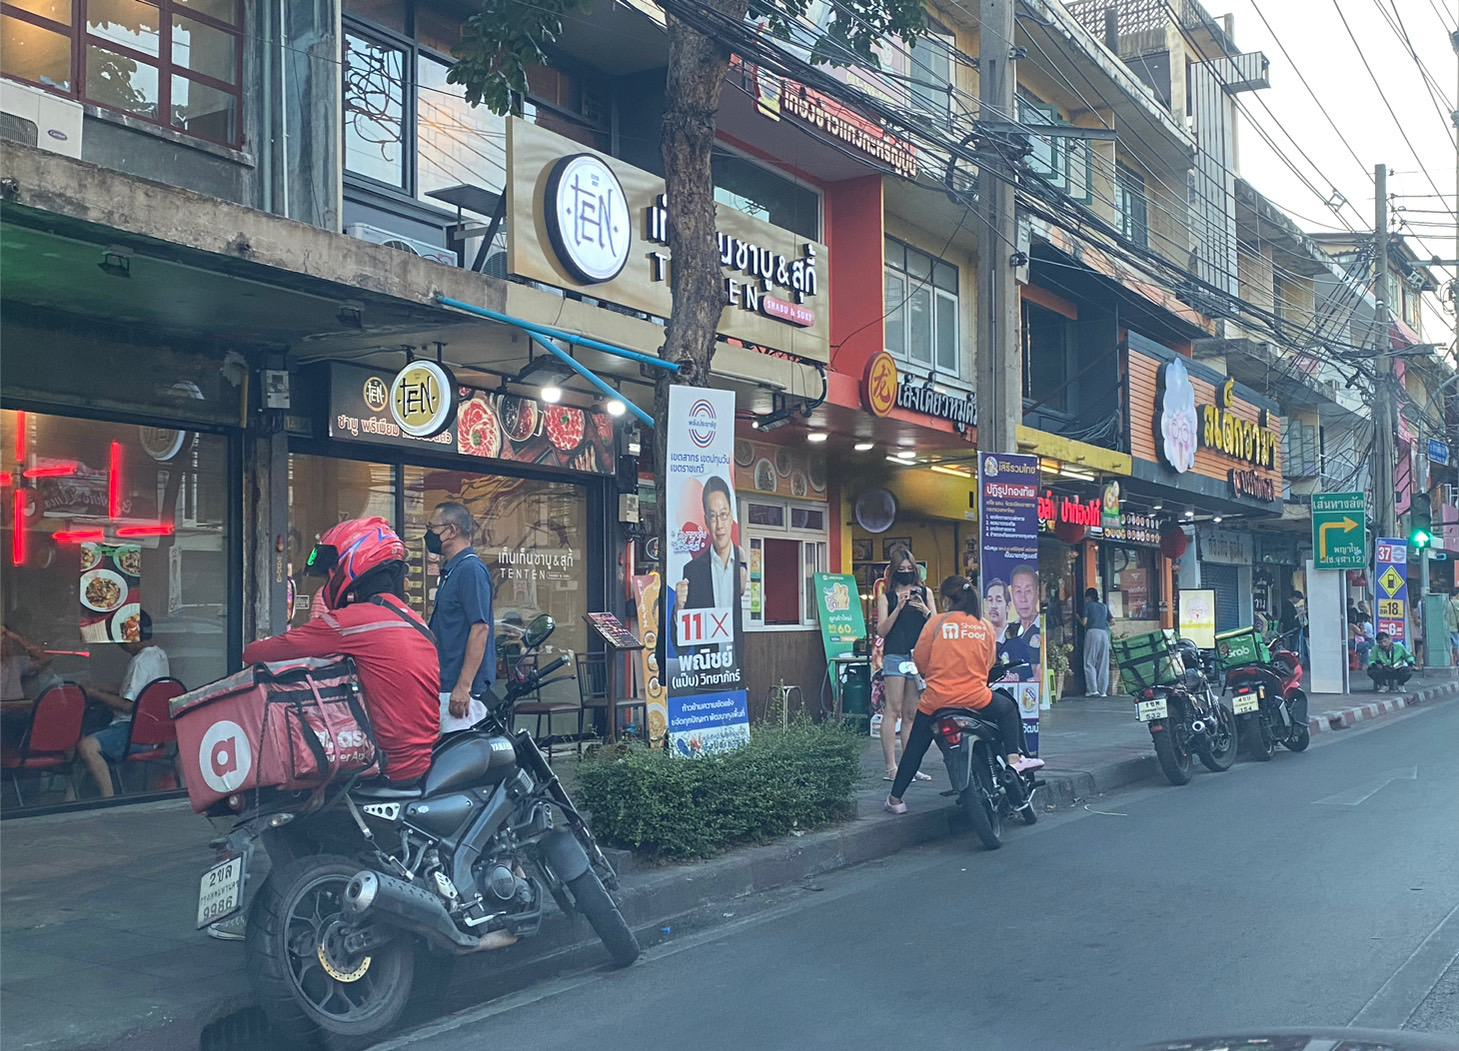Banner: (656, 370, 758, 758), (975, 446, 1063, 730)
